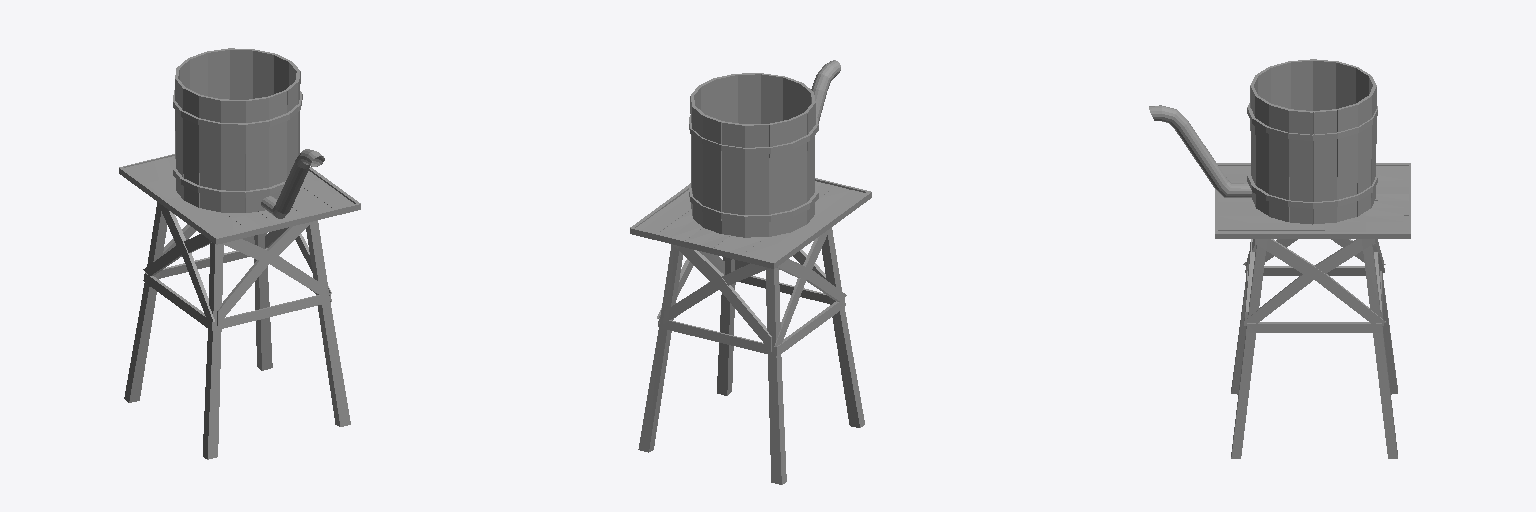
Rendered from WaterTower.obj.
3 views of the same model, side by side, from view 1: azimuth 30°, elevation 25°; view 2: azimuth 150°, elevation 25°; view 3: azimuth 270°, elevation 25° (orthographic).
Parts seen in each view (by area): view 1: WaterTower; view 2: WaterTower; view 3: WaterTower.
Part boxes in pixels (x1,y1,x2,y2): WaterTower: (119, 48, 360, 459); WaterTower: (630, 60, 871, 484); WaterTower: (1149, 59, 1410, 458).
Bounding box in the file's own units: 3.4 × 7.54 × 5.29.